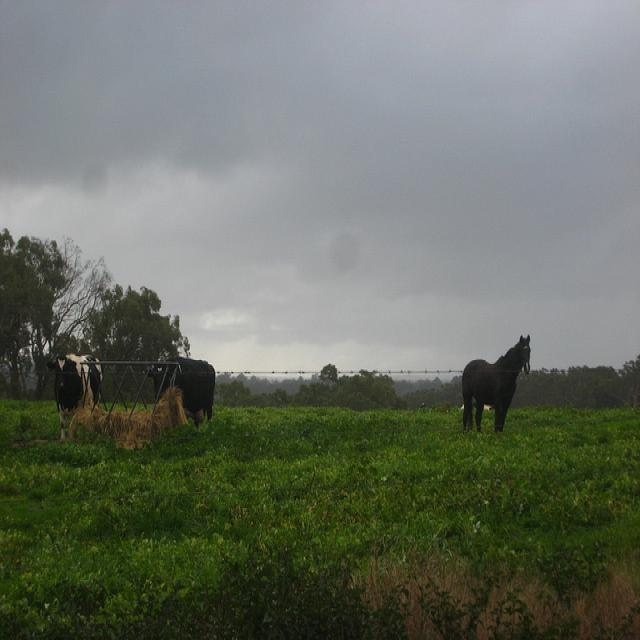cow: (142, 355, 214, 429), (46, 352, 103, 440)
